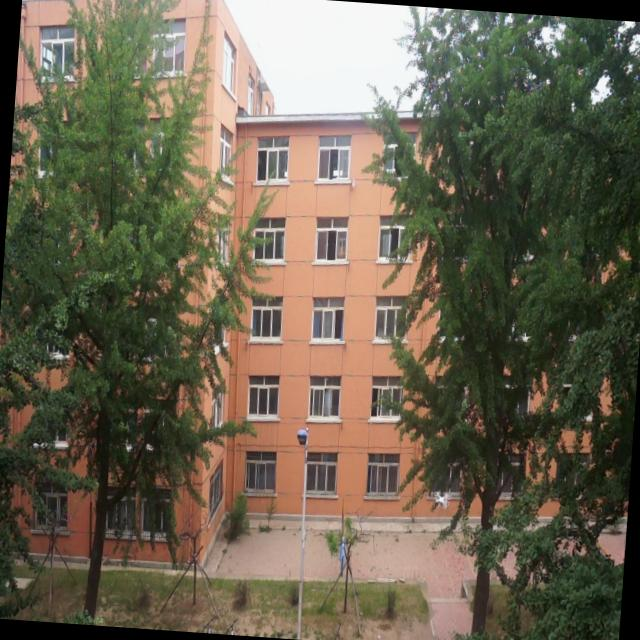drone: (426, 486, 454, 512)
